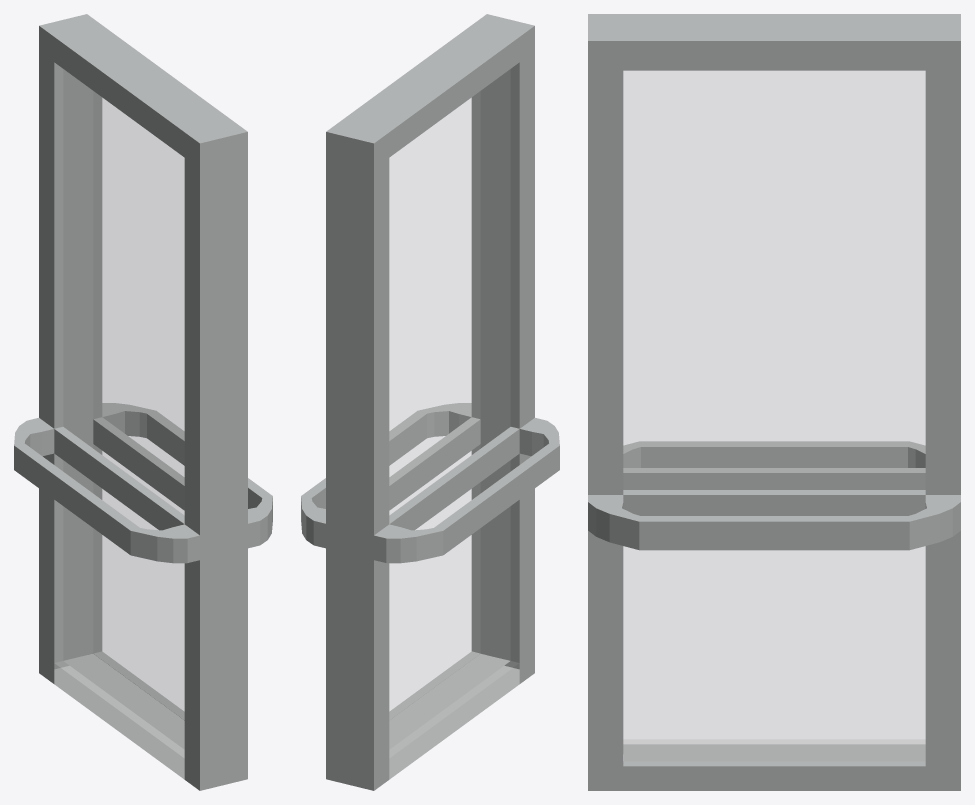
Rendered from supermarket door.fbx.
3 views of the same model, side by side, from view 1: azimuth 30°, elevation 25°; view 2: azimuth 150°, elevation 25°; view 3: azimuth 270°, elevation 25° (orthographic). The views are drawn at different scales.
Parts seen in each view (by area): view 1: door; view 2: door; view 3: door.
Boxes of the visible parts, x1=… form: door: x1=14, y1=14, x2=272, y2=790; door: x1=301, y1=14, x2=559, y2=790; door: x1=588, y1=14, x2=960, y2=790.
Size of the model in its own units: 1.09 by 4.75 by 2.14.
Materials: 2 (1 with a texture image).
